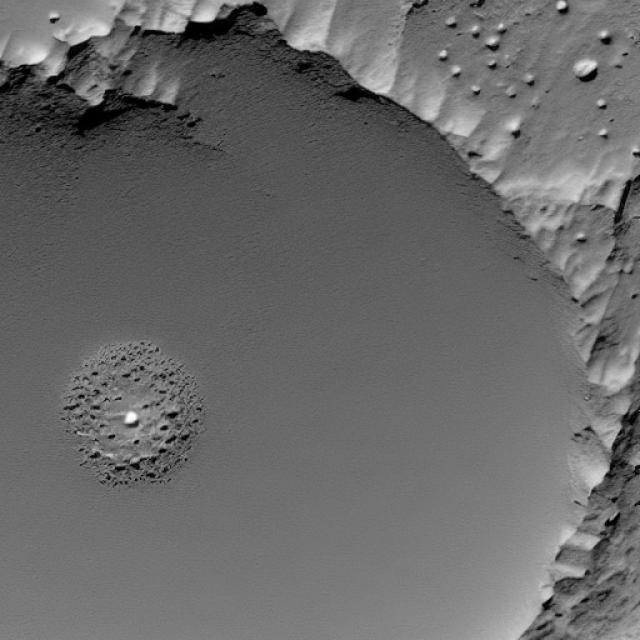crater: (0, 3, 632, 640)
